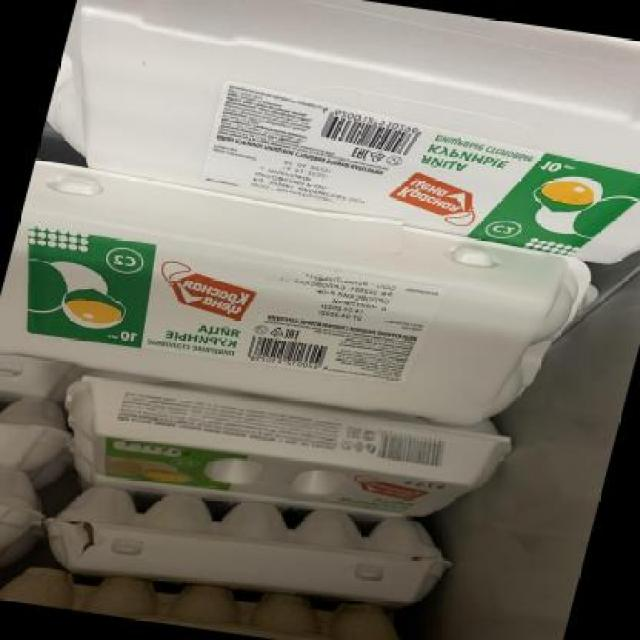Egg: (0, 155, 609, 437), (31, 0, 638, 269), (46, 367, 520, 531), (0, 551, 423, 638), (0, 391, 71, 477), (0, 459, 52, 565)
